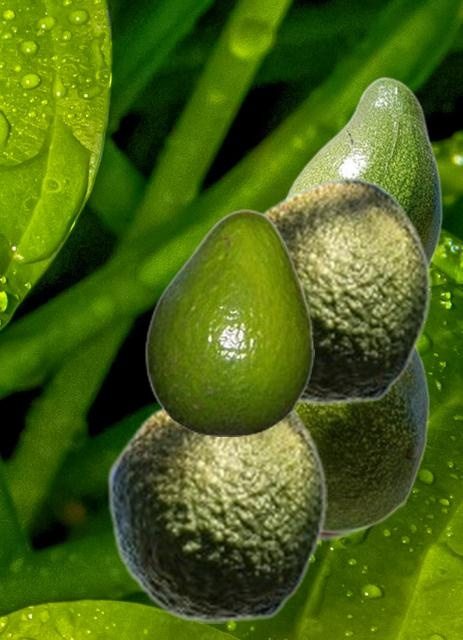avocado: (106, 405, 326, 622), (260, 177, 430, 404), (144, 208, 313, 435), (286, 76, 442, 265), (296, 345, 429, 534)
